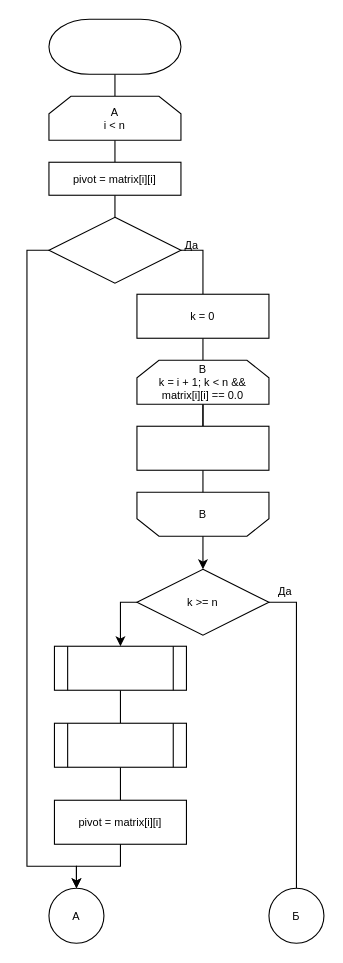
The diagram is 343 pixels wide and 963 high, and some of its shapes have lost their labels. Here are the shapes that lost their labels. From the top down, the centre of each, then its label:
(x=114, y=46): Начало
(x=114, y=249): pivot = 0
(x=202, y=447): k++
(x=119, y=667): поменять строки местами (i с k)
(x=119, y=744): поменять строки местами в (i с k)
